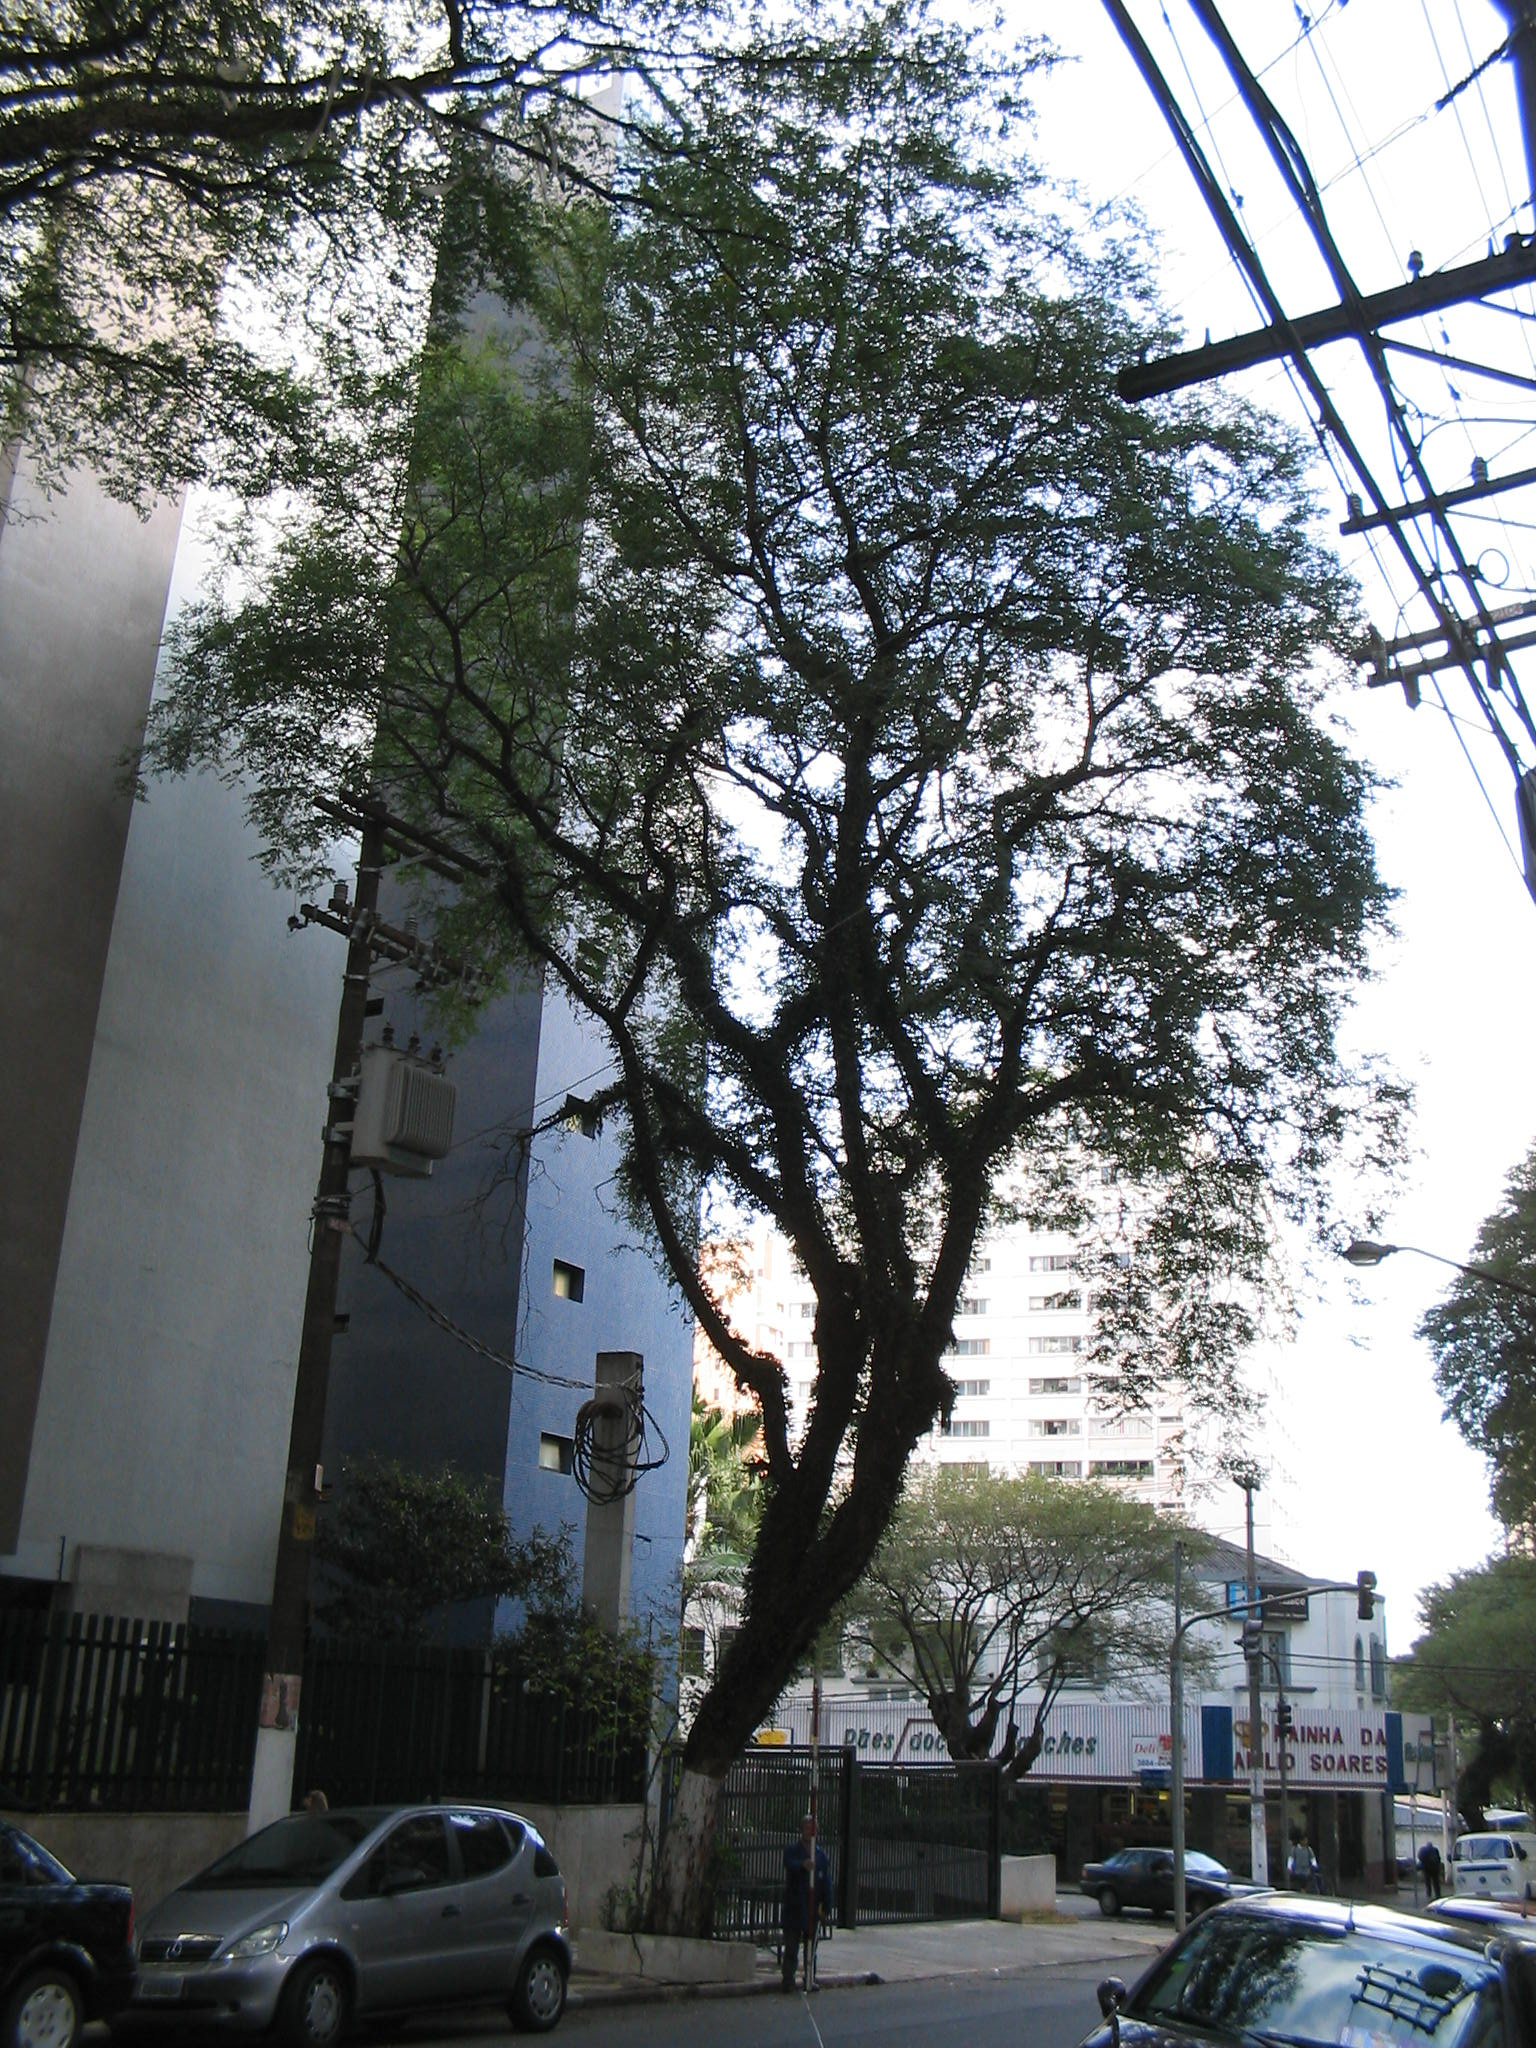crown: (123, 11, 1430, 1516)
stem: (641, 1582, 854, 1937)
stick: (792, 1685, 833, 1992)
tree: (111, 5, 1434, 1929)
